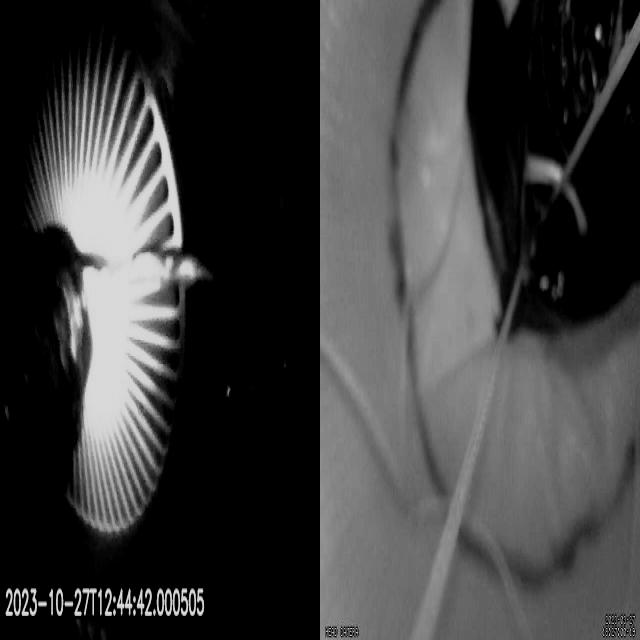red-circle: (386, 0, 640, 589)
